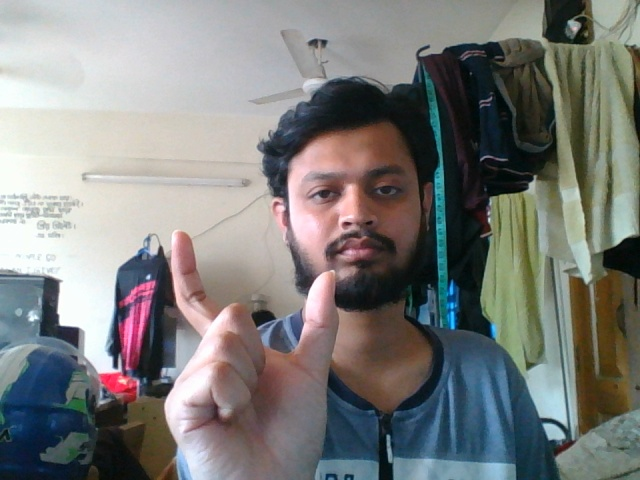chandrobindu: (152, 226, 345, 480)
